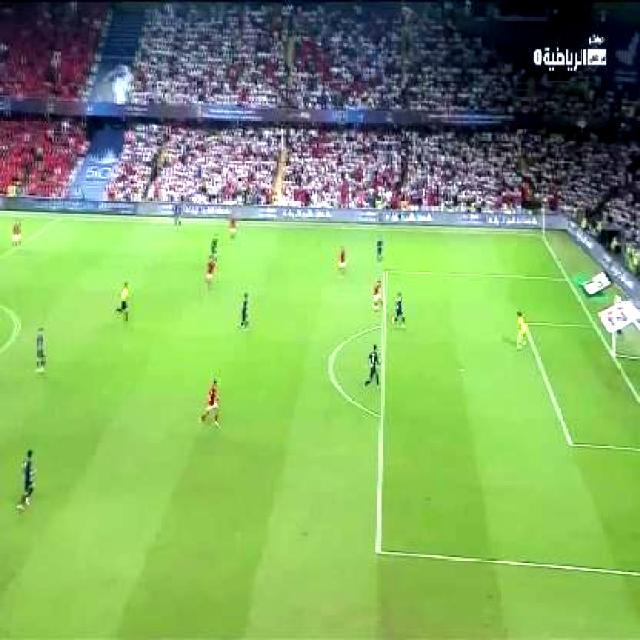bigarea_bottom_inner: (370, 542, 388, 560)
bigarea_top_inner: (380, 268, 392, 277)
bigarea_top_outter: (560, 274, 569, 283)
bottom_arc_area_intersection: (374, 409, 388, 422)
corner: (537, 231, 548, 243)
smallarea_bottom_inner: (564, 434, 576, 451)
smallarea_top_outter: (586, 318, 597, 332)
top_arc_area_intersection: (377, 320, 391, 334)
